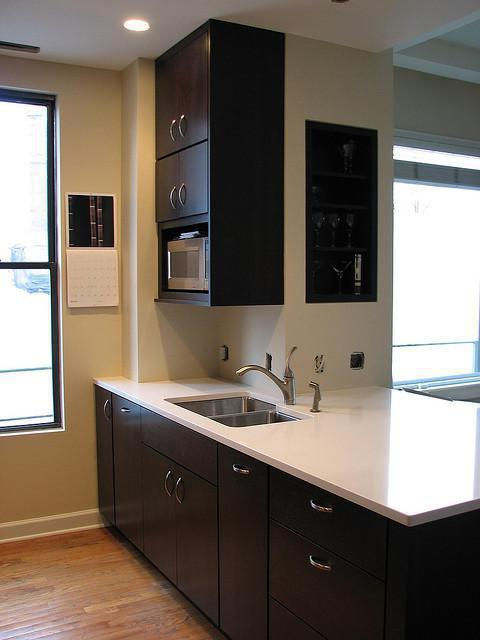Lavaplatos: (164, 341, 338, 438)
